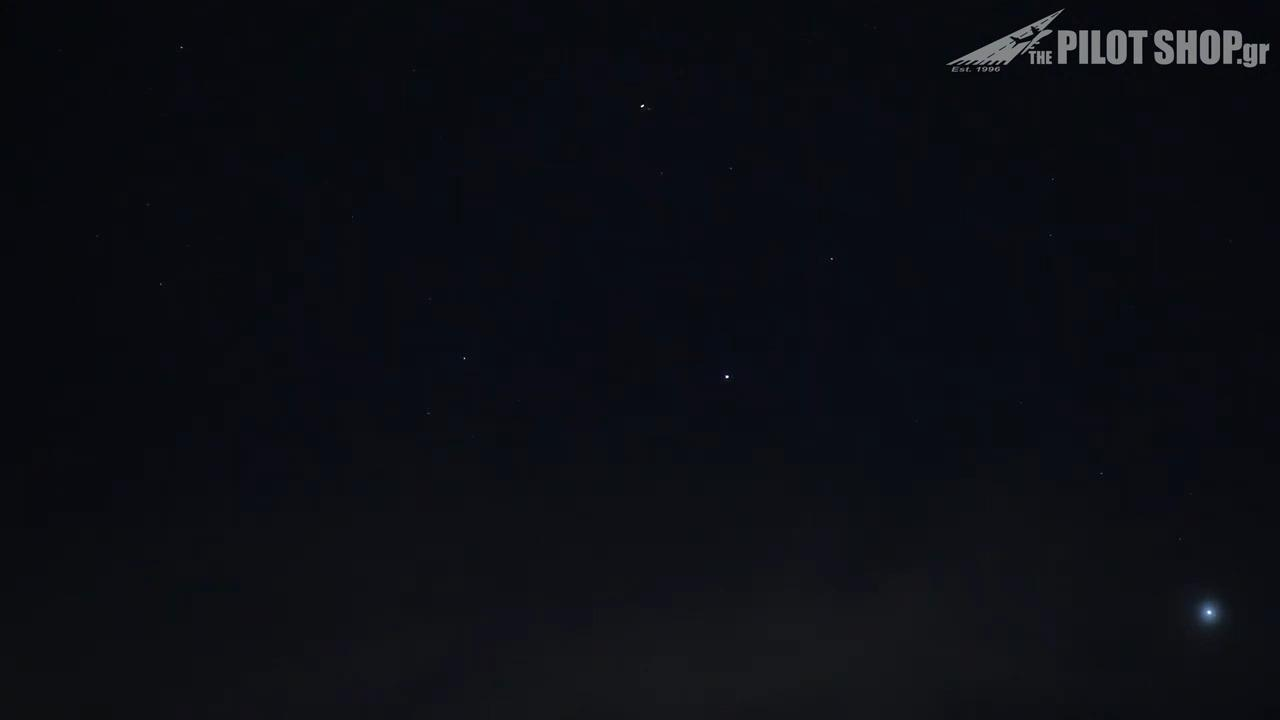Plane: (636, 98, 658, 114)
